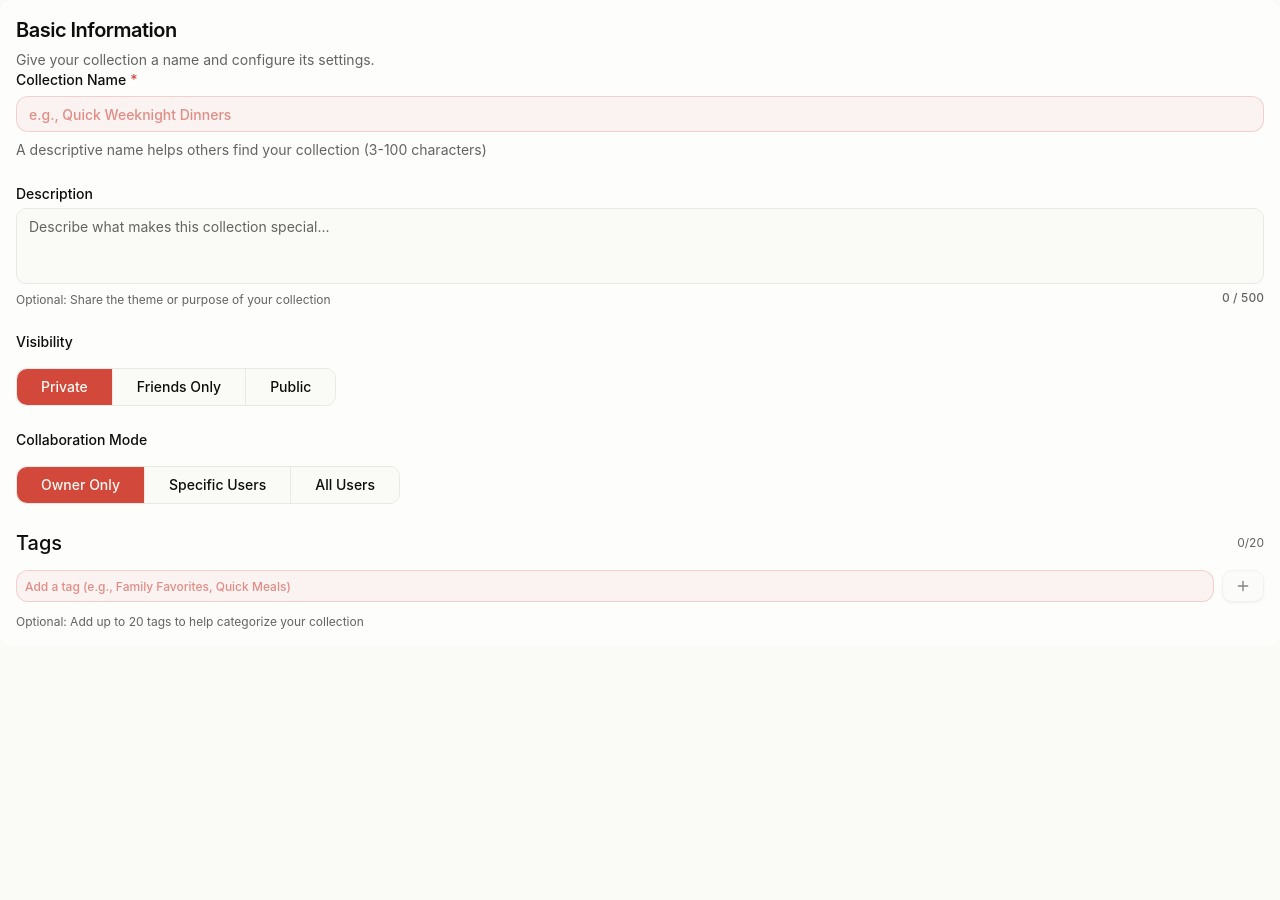
Test: BasicInfoSection › Tags TagInput › should allow removing tags
Step 1. Type "vegetarian" into the field with placeholder "Add a tag (e.g., Family Favorites, Quick Meals)" → (615, 586), box [16,570,1214,602]
Then press Enter
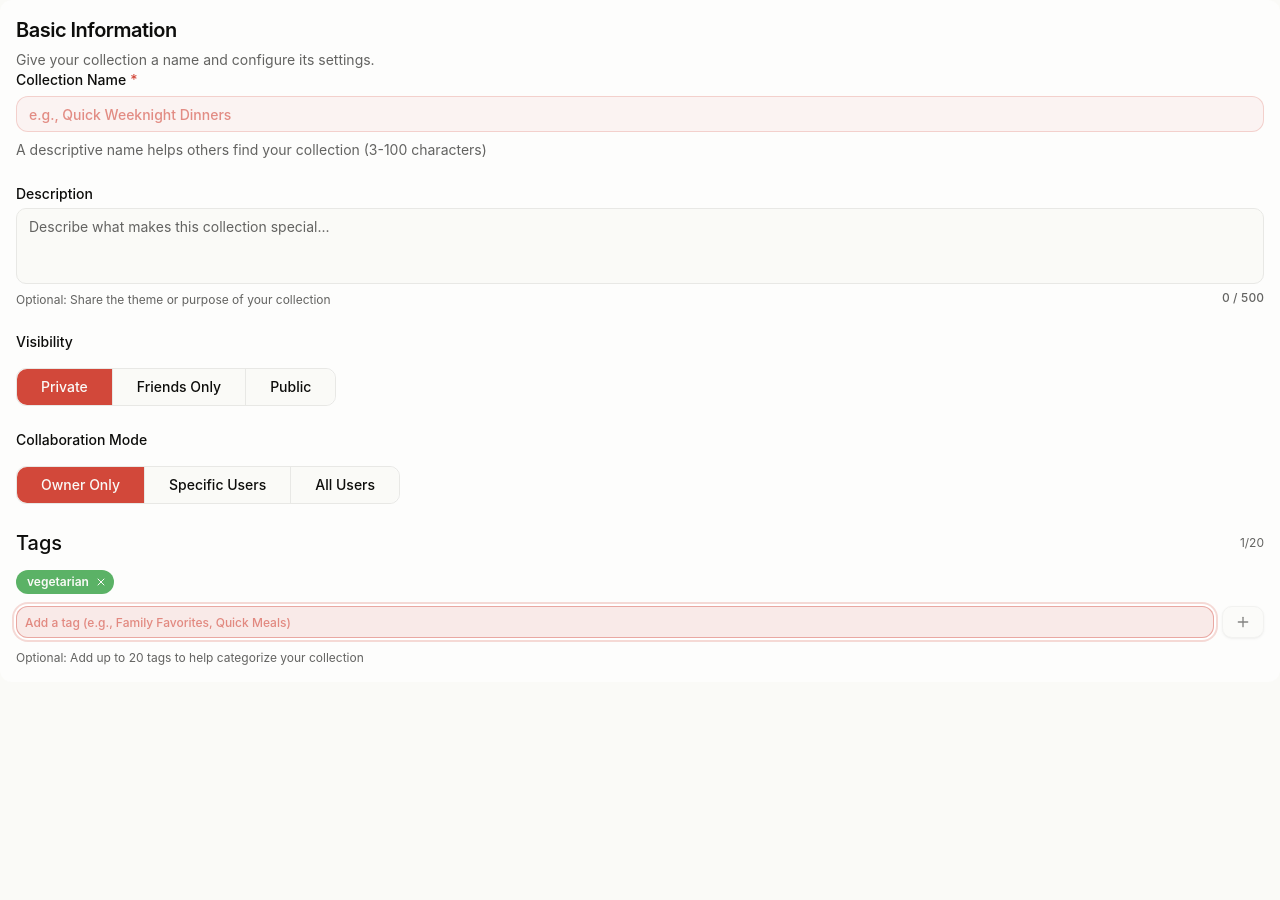
Step 2. Click the button named "remove tag vegetarian" → (101, 582), box [93,574,109,590]
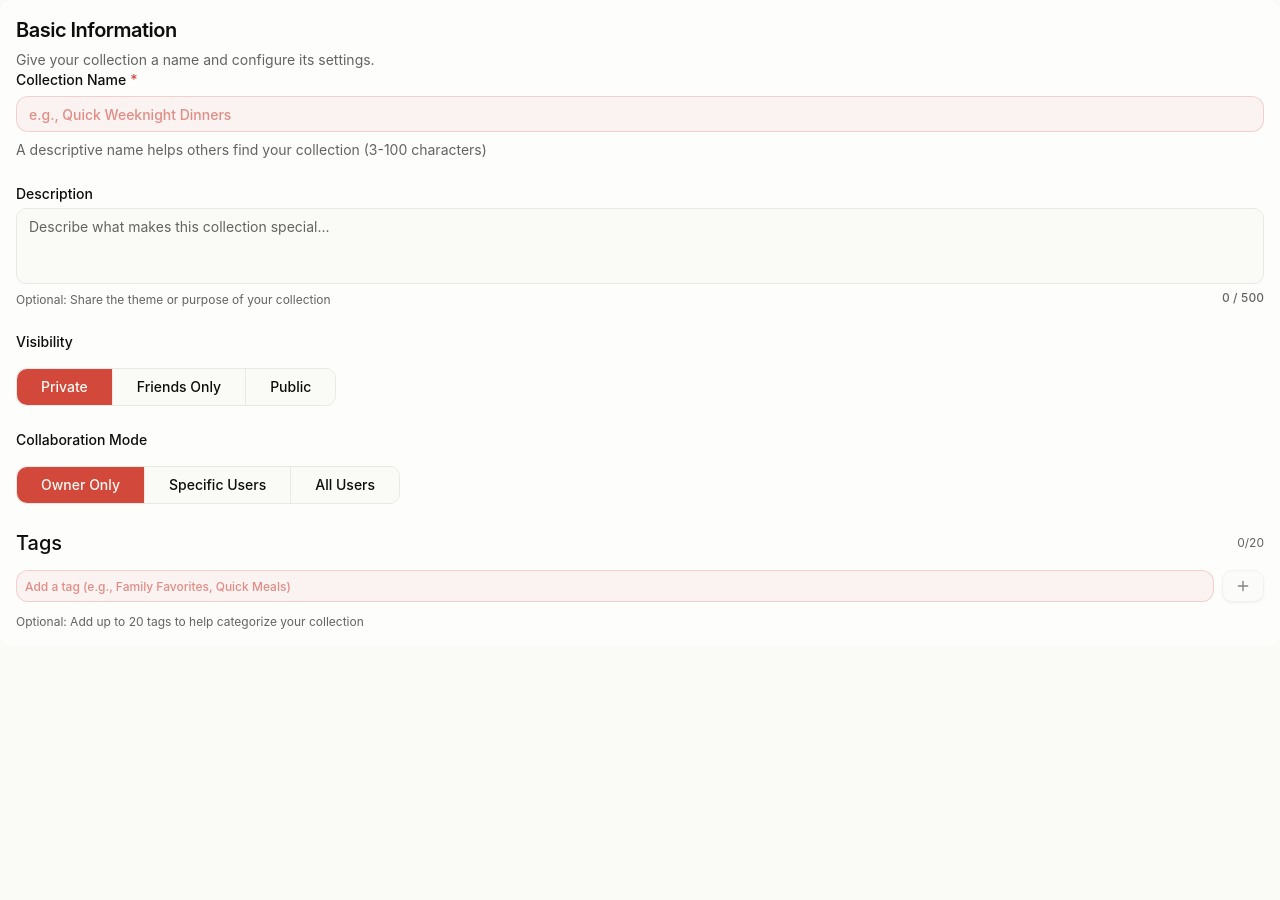
Check: the text "vegetarian" is gone
